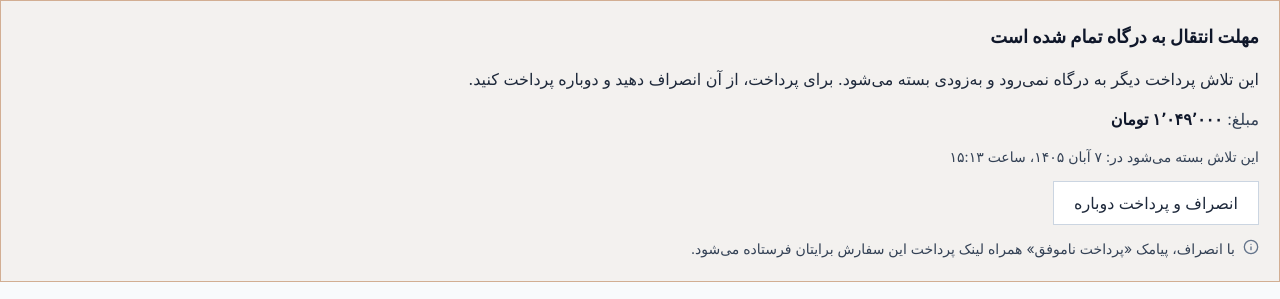
Test: a cancellation the server refuses › payment_forbidden (another account’s attempt): explained with a way out, never re-offered
Click the button "انصراف و پرداخت دوباره".
click(1156, 203)  # box x1=1053 y1=181 x2=1259 y2=225
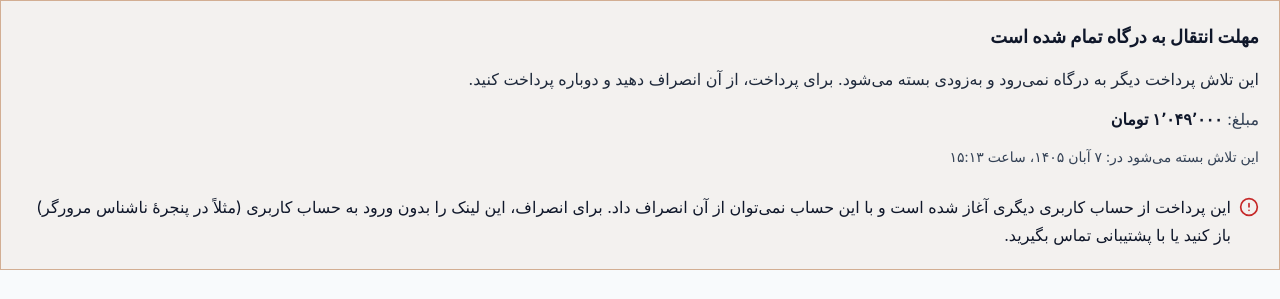
Result: the message shows "حساب کاربری دیگری" at x1=36 y1=197 x2=1231 y2=245
Result: the message shows "بدون ورود" at x1=36 y1=197 x2=1231 y2=245
